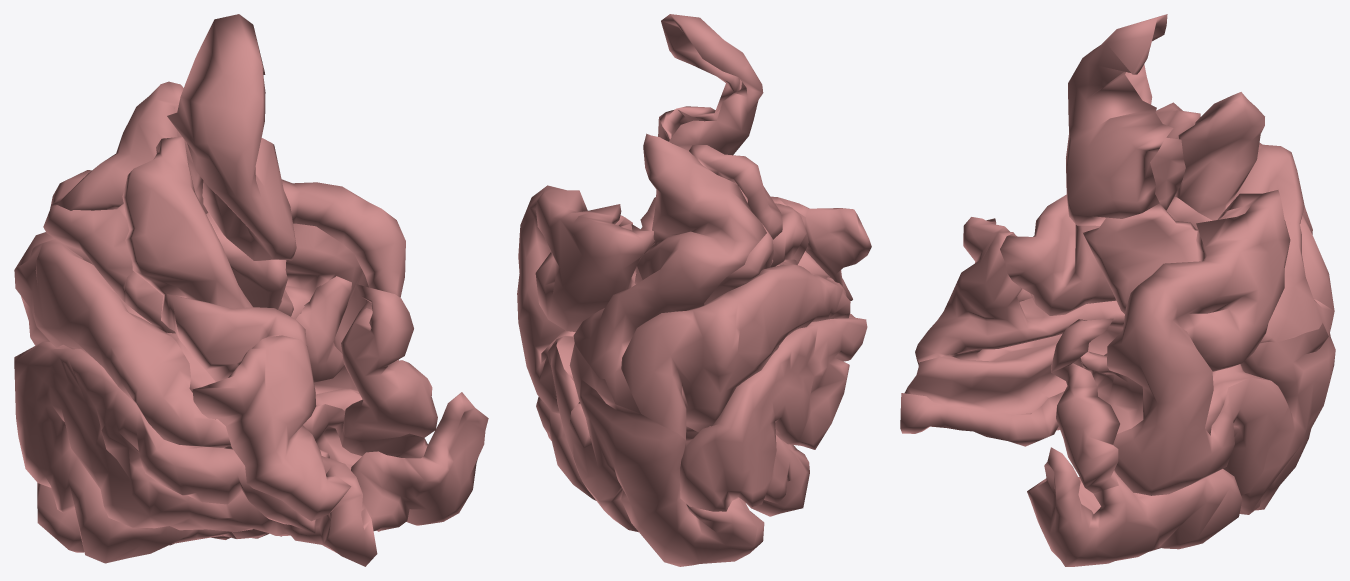
Rendered from occipital_R.001.fbx.
3 renders of one model, left to right at view 1: azimuth 30°, elevation 25°; view 2: azimuth 150°, elevation 25°; view 3: azimuth 270°, elevation 25°, orthographic. The views are drawn at different scales.
Parts seen in each view (by area): view 1: occipital_R; view 2: occipital_R; view 3: occipital_R.
Boxes of the visible parts, left/top/right/bottom form: occipital_R: left=14, top=14, right=488, bottom=566; occipital_R: left=517, top=14, right=871, bottom=566; occipital_R: left=900, top=14, right=1335, bottom=566.
Bounding box in the file's own units: 5.5 × 6.37 × 8.35.
